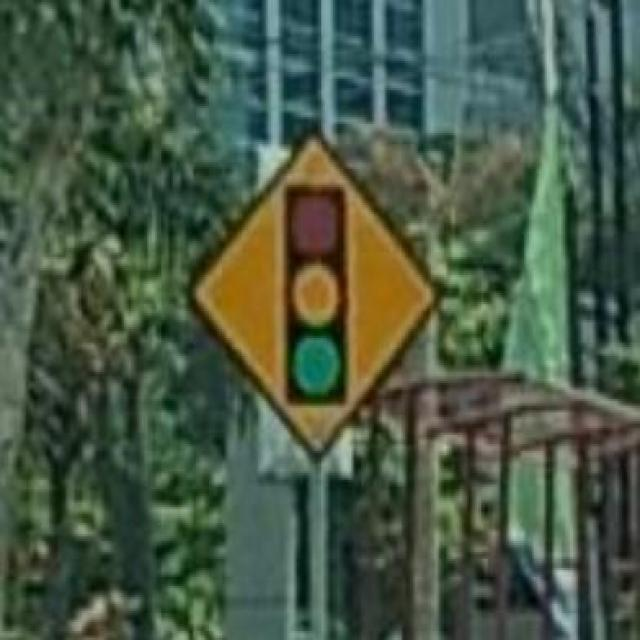traffic sign: (199, 135, 438, 450)
